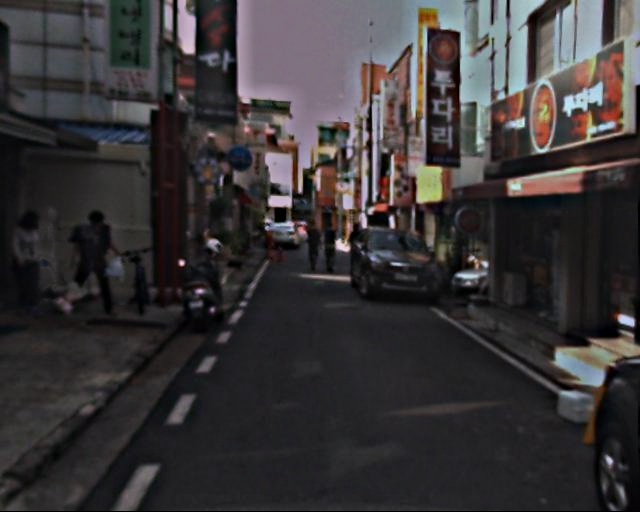person: (8, 204, 65, 309), (74, 205, 126, 314), (302, 222, 323, 274), (346, 223, 367, 274), (319, 224, 340, 274)
